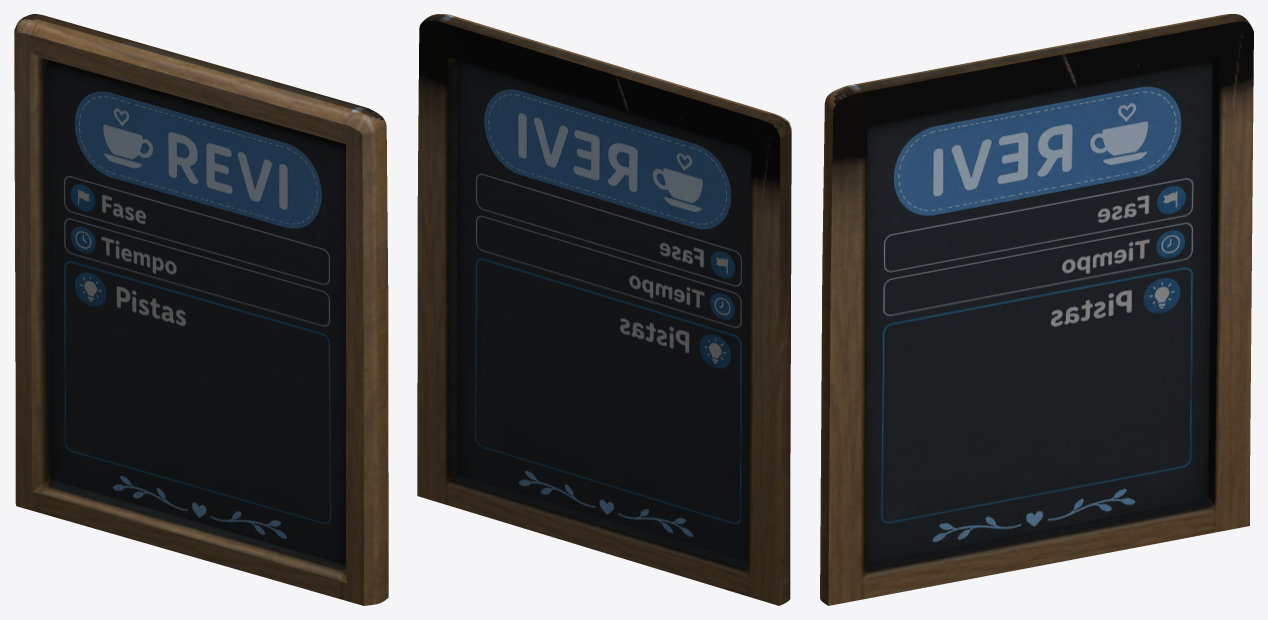
File: pizarrabb.glb
3 views of the same model, side by side, from view 1: azimuth 30°, elevation 25°; view 2: azimuth 210°, elevation 25°; view 3: azimuth 270°, elevation 25° (orthographic). The views are drawn at different scales.
Visible parts, largest first — view 1: Plane001.001; view 2: Plane001.001; view 3: Plane001.001.
Part boxes in pixels (x1,y1,x2,y2): Plane001.001: (14,14,388,605); Plane001.001: (417,14,791,605); Plane001.001: (820,14,1253,605).
Size of the model in its own units: 0.1137 by 0.2882 by 0.2211.
2 materials, 2 textured.
